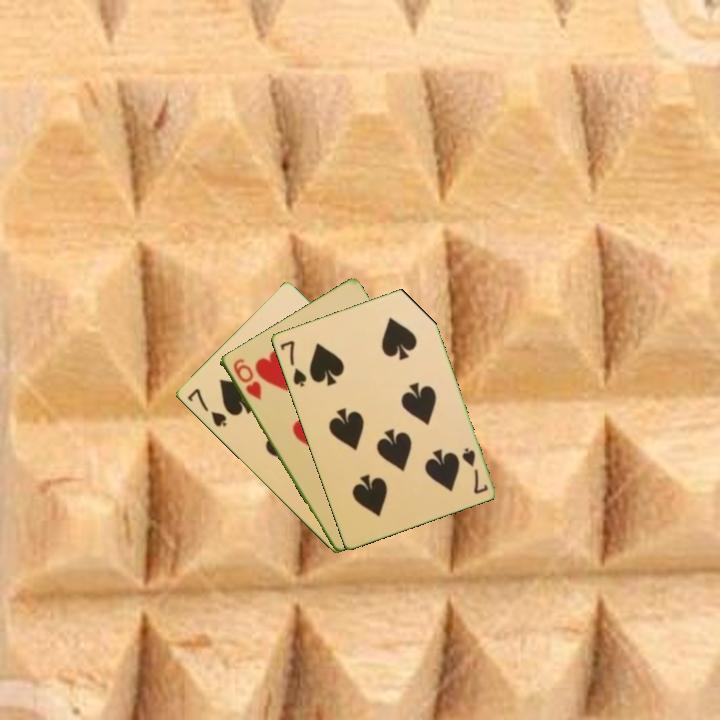6h: (229, 354, 264, 403)
7s: (183, 385, 229, 430), (276, 337, 309, 390), (458, 444, 491, 497)
